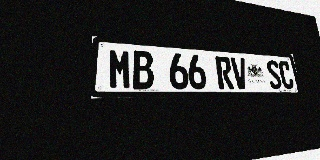6: (168, 53, 189, 89), (187, 54, 207, 89)
B: (132, 50, 154, 89)
C: (278, 61, 295, 89)
M: (109, 48, 132, 89)
R: (215, 56, 234, 89)
S: (265, 60, 283, 89)
V: (230, 57, 249, 89)
